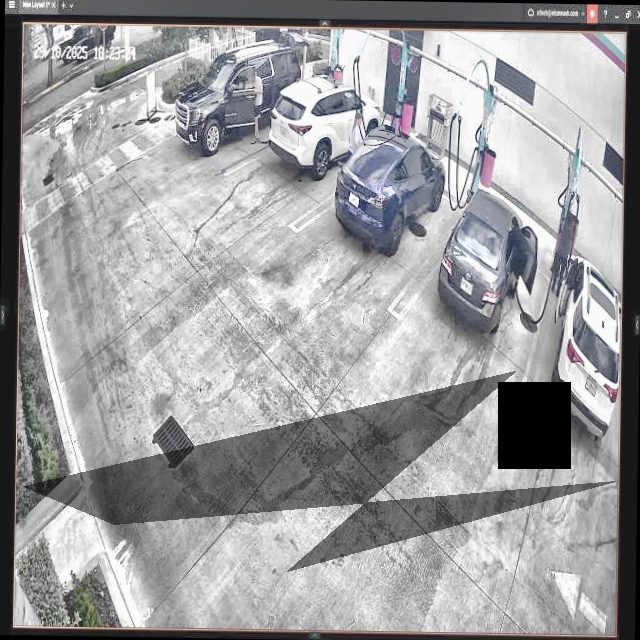Car: (336, 125, 446, 252), (438, 189, 537, 330), (269, 75, 381, 172)
